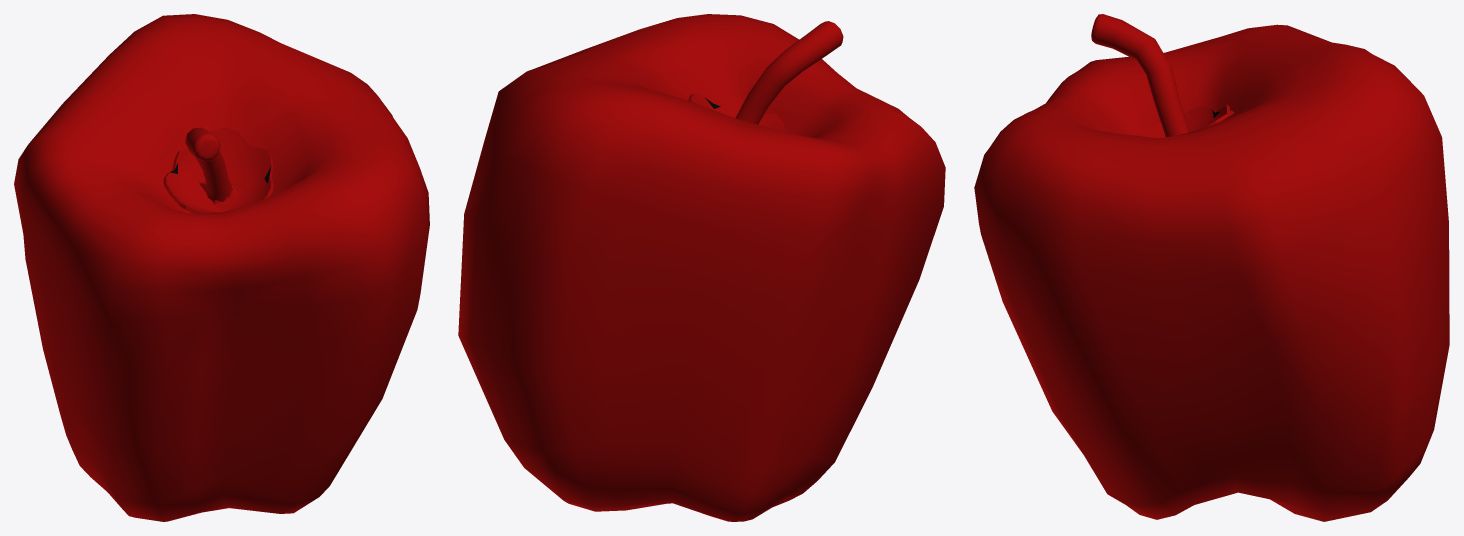
File: SM_Capcicum.fbx
The picture shows the model from 3 angles, left to right: view 1: azimuth 30°, elevation 25°; view 2: azimuth 150°, elevation 25°; view 3: azimuth 270°, elevation 25°; orthographic projection. The views are drawn at different scales.
Parts seen in each view (by area): view 1: SM_Capcicum; view 2: SM_Capcicum; view 3: SM_Capcicum.
Part boxes in pixels (box(x1,y1,x2,y2)): SM_Capcicum: box(14, 14, 429, 521); SM_Capcicum: box(458, 14, 945, 521); SM_Capcicum: box(974, 14, 1449, 521).
Bounding box in the file's own units: 11.72 × 12.86 × 13.36.
